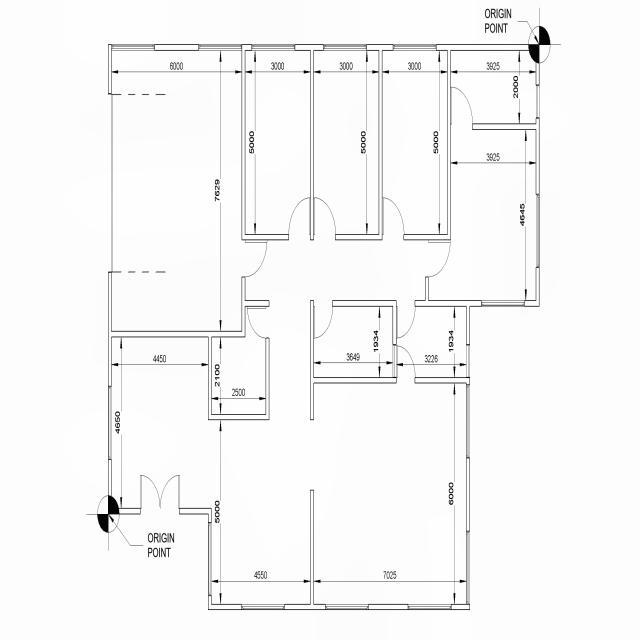Column: (108, 496, 112, 514), (112, 508, 120, 514)
Door: (242, 240, 268, 278), (450, 86, 472, 130), (313, 198, 336, 240), (382, 198, 404, 240), (288, 198, 310, 240), (426, 240, 450, 278), (396, 300, 416, 339), (247, 306, 270, 338), (396, 346, 415, 384), (314, 300, 332, 339)
Double-Door: (140, 474, 180, 514)
Sliding Door: (108, 93, 112, 273)
Window: (323, 44, 367, 51), (252, 44, 296, 51), (198, 44, 242, 51), (111, 44, 155, 51), (393, 44, 436, 51), (208, 522, 212, 596), (108, 386, 112, 460), (466, 530, 470, 604), (466, 384, 470, 458), (241, 604, 285, 610), (481, 300, 525, 306), (408, 604, 451, 610), (326, 604, 368, 610), (536, 194, 539, 268), (466, 344, 470, 378), (536, 85, 540, 118), (393, 344, 396, 377)
